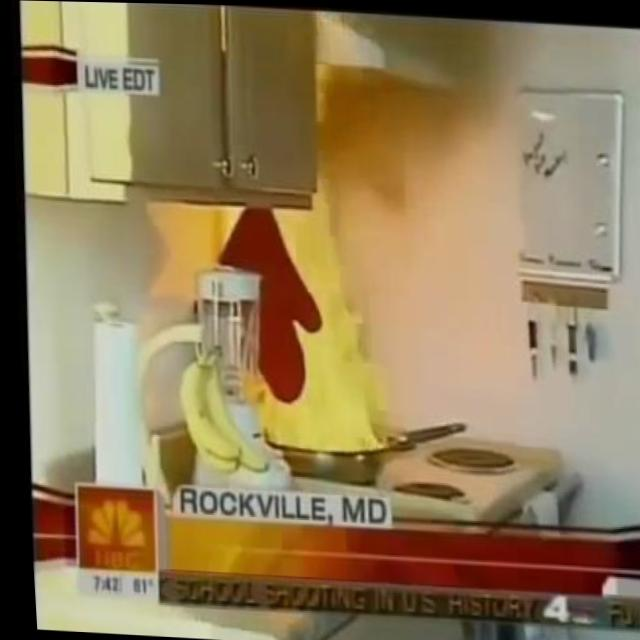fire: (221, 98, 396, 453)
